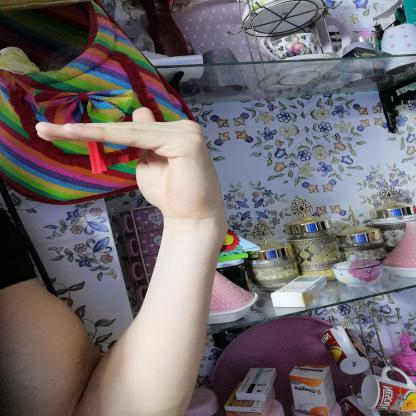KHAA: (20, 102, 233, 226)
